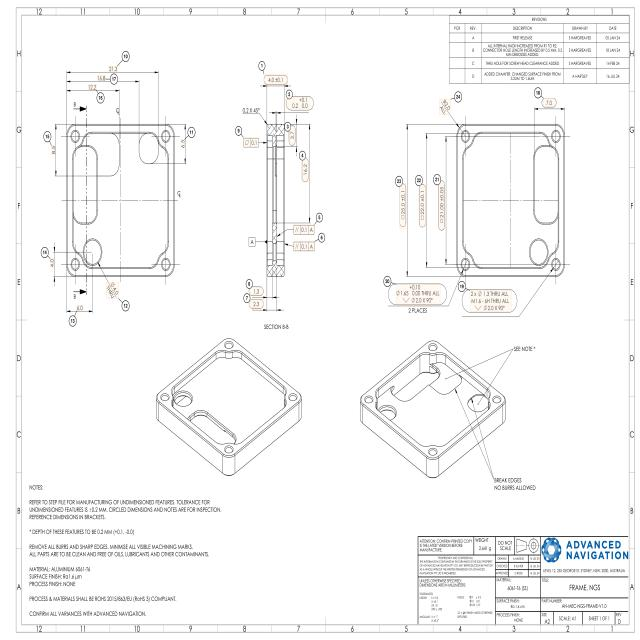dimension: (461, 288, 518, 313), (388, 283, 447, 306), (437, 180, 446, 230), (286, 96, 315, 110), (418, 184, 426, 228), (399, 182, 406, 229), (264, 74, 288, 85), (438, 98, 451, 116), (106, 281, 118, 299), (301, 155, 309, 182), (294, 224, 314, 234), (294, 242, 314, 252), (248, 298, 264, 309), (243, 137, 259, 147), (248, 286, 264, 296), (289, 124, 296, 146), (541, 97, 556, 107), (242, 106, 260, 114), (87, 83, 97, 91), (97, 74, 106, 82), (179, 138, 185, 150), (108, 65, 118, 72), (76, 304, 84, 312), (51, 144, 55, 156), (50, 258, 54, 268)
